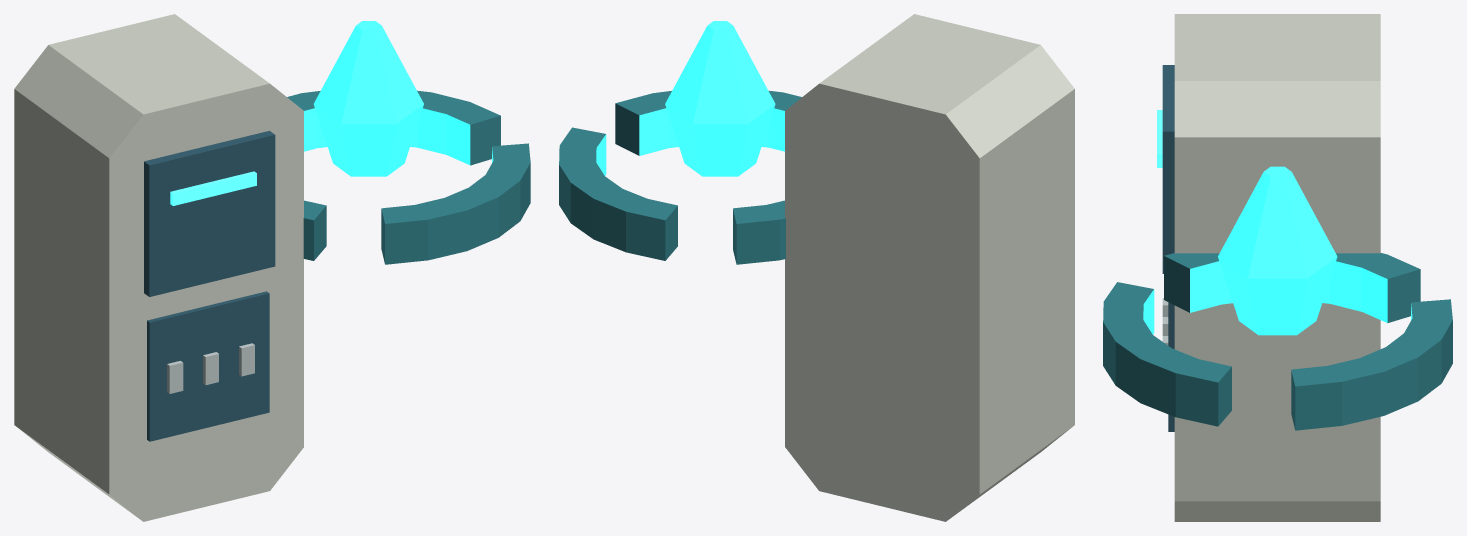
The model's file is City_ChargePost.glb.
The picture shows the model from 3 angles, left to right: view 1: azimuth 30°, elevation 25°; view 2: azimuth 150°, elevation 25°; view 3: azimuth 270°, elevation 25°; orthographic projection. The views are drawn at different scales.
Visible parts, largest first — view 1: City_ChargePost_Pedestal, City_ChargePost_InductionHalo, City_ChargePost_Display; view 2: City_ChargePost_Pedestal, City_ChargePost_InductionHalo; view 3: City_ChargePost_Pedestal, City_ChargePost_InductionHalo, City_ChargePost_Display.
Boxes of the visible parts, left/top/right/bottom form: City_ChargePost_Pedestal: left=14, top=14, right=303, bottom=521; City_ChargePost_InductionHalo: left=287, top=21, right=530, bottom=264; City_ChargePost_Display: left=144, top=131, right=275, bottom=296; City_ChargePost_Pedestal: left=785, top=14, right=1074, bottom=521; City_ChargePost_InductionHalo: left=559, top=21, right=801, bottom=264; City_ChargePost_Pedestal: left=1162, top=14, right=1380, bottom=521; City_ChargePost_InductionHalo: left=1103, top=166, right=1452, bottom=430; City_ChargePost_Display: left=1157, top=65, right=1174, bottom=273.
Size of the model in its own units: 1.49 by 1.3 by 0.9341.
